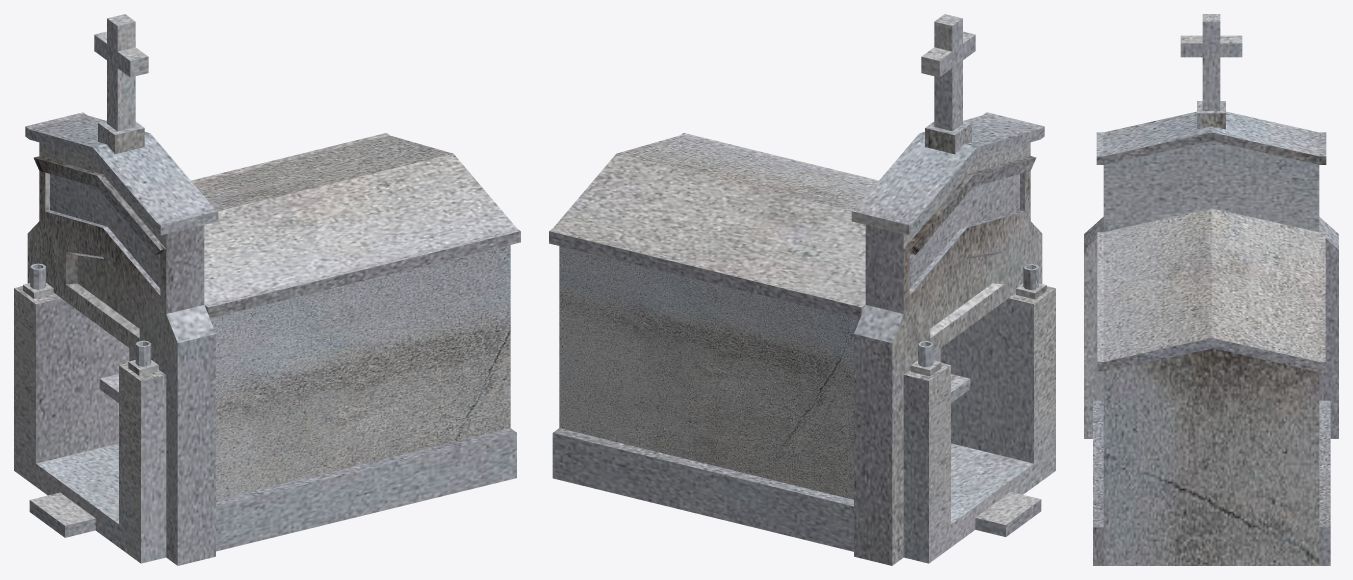
File: grobek_zadnji.fbx
The picture shows the model from 3 angles, left to right: view 1: azimuth 30°, elevation 25°; view 2: azimuth 150°, elevation 25°; view 3: azimuth 270°, elevation 25°; orthographic projection. The views are drawn at different scales.
Parts seen in each view (by area): view 1: grob; view 2: grob; view 3: grob.
Part boxes in pixels (bbox=[...]): grob: bbox=[14, 14, 520, 565]; grob: bbox=[549, 14, 1055, 565]; grob: bbox=[1084, 14, 1338, 565].
Size of the model in its own units: 236 by 370 by 423.
Materials: 1 (1 with a texture image).
